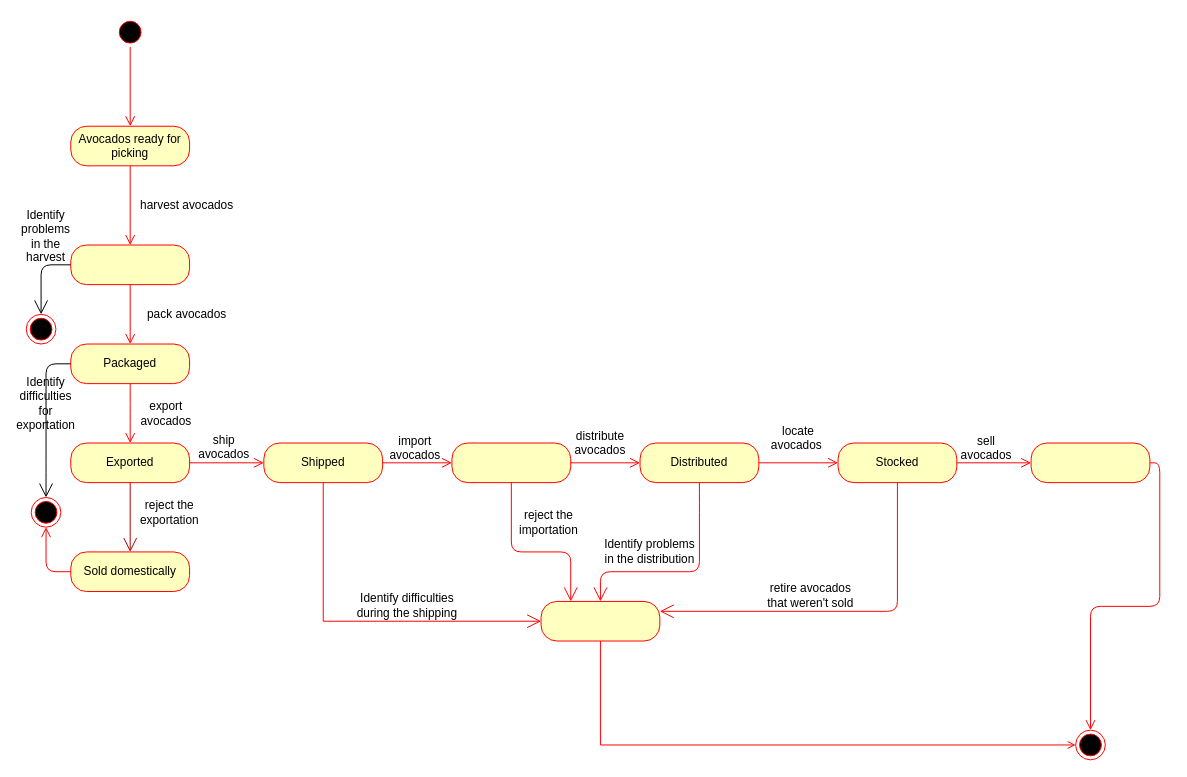
This 1187x777 diagram has some shape labels left out. Each missing label, with the centre of its shape:
"Composted" belongs at (600,620).
"Harvest" belongs at (130,264).
"Imported" belongs at (511,462).
"Sold" belongs at (1090,462).
